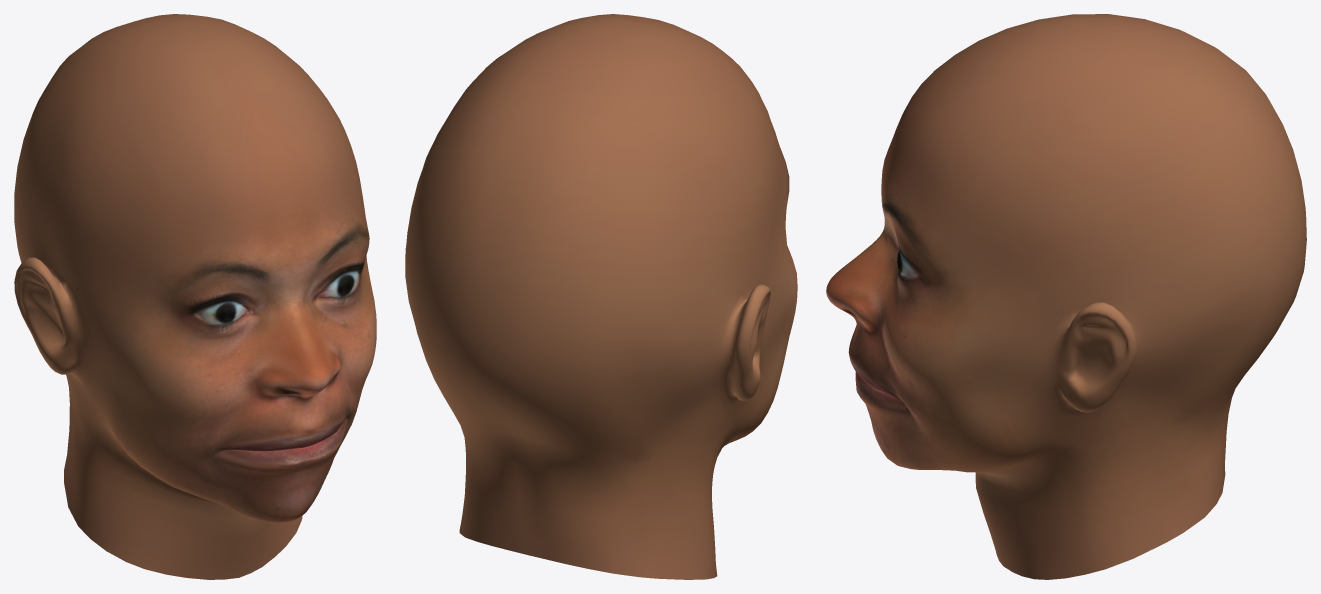
The model's file is v332_obj_ModifierLipStretcher(AU20).obj.
The picture shows the model from 3 angles, left to right: view 1: azimuth 30°, elevation 25°; view 2: azimuth 150°, elevation 25°; view 3: azimuth 270°, elevation 25°; orthographic projection. The views are drawn at different scales.
Parts seen in each view (by area): view 1: HeadHires; view 2: HeadHires; view 3: HeadHires.
Part boxes in pixels (x1,y1,x2,y2): HeadHires: (14, 14, 376, 579); HeadHires: (405, 14, 797, 579); HeadHires: (826, 14, 1306, 579).
Bounding box in the file's own units: 187 × 282 × 233.
